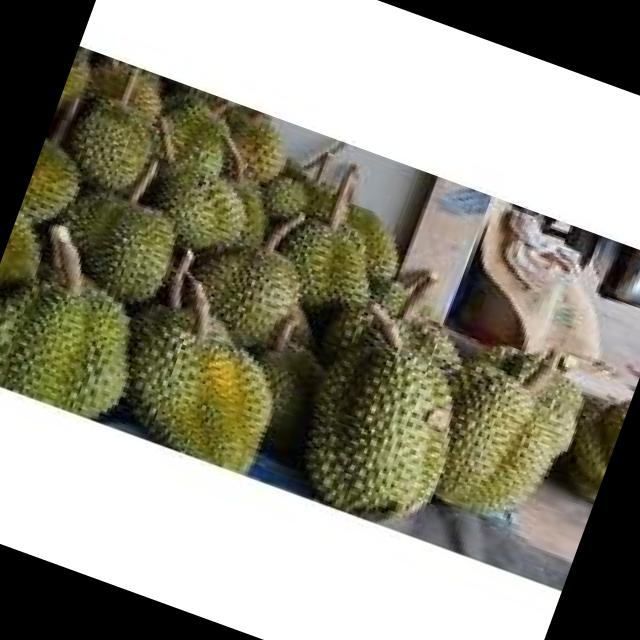fruit: (268, 277, 508, 542), (403, 324, 611, 556), (0, 247, 168, 427), (40, 166, 206, 332), (163, 210, 325, 372)
